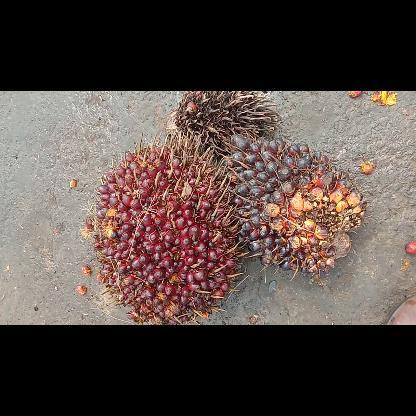Janjang kosong: (162, 91, 282, 157)
TBS masak: (86, 130, 250, 324)
TBS mentah: (224, 134, 366, 280)
